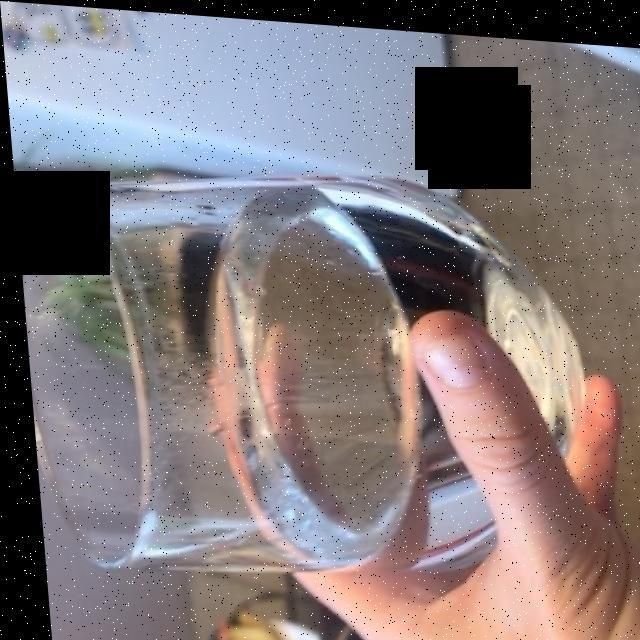water: (209, 169, 554, 567)
